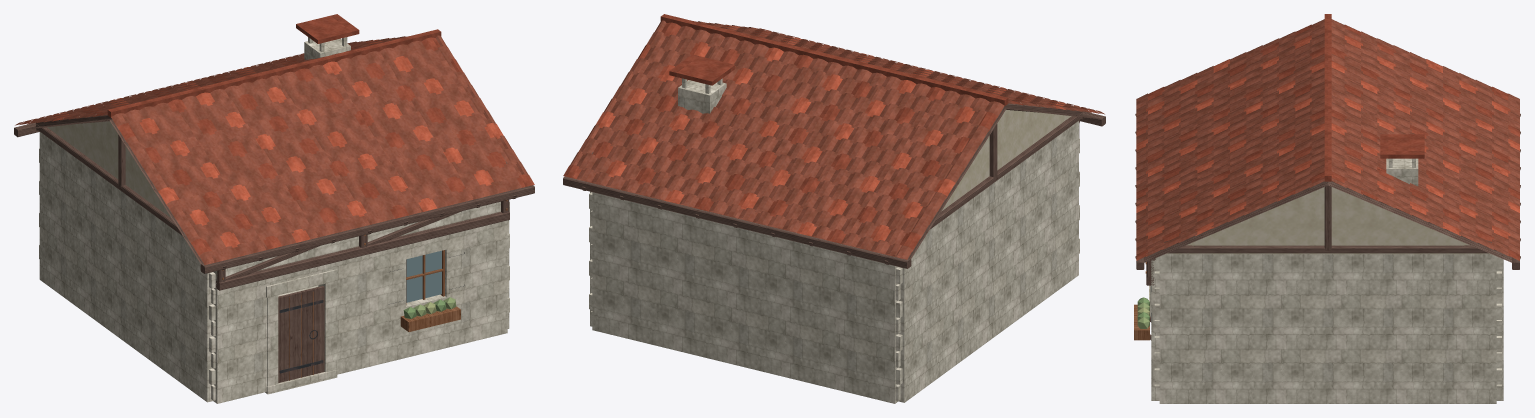
The model's file is B20_vivienda.glb.
The picture shows the model from 3 angles, left to right: view 1: azimuth 30°, elevation 25°; view 2: azimuth 150°, elevation 25°; view 3: azimuth 270°, elevation 25°; orthographic projection. The views are drawn at different scales.
Parts seen in each view (by area): view 1: AUR034_B20_clay_tiles, AUR034_B20_lower_masonry, AUR034_B20_entry_leaf0, AUR034_B20_gable-1, AUR034_B20_sill, AUR034_B20_fascia-1, AUR034_B20_ridge, AUR034_B20_window0_glazing, AUR034_B20_gable_tie-1, AUR034_B20_cowl, AUR034_B20_entry_pier1, AUR034_B20_entry_pier-1 (+8 smaller); view 2: AUR034_B20_lower_masonry, AUR034_B20_clay_tiles, AUR034_B20_gable-1, AUR034_B20_fascia1, AUR034_B20_ridge, AUR034_B20_gable_tie-1, AUR034_B20_dressed_corner_stones, AUR034_B20_cowl, AUR034_B20_chimney, AUR034_B20_roof_sheathing; view 3: AUR034_B20_clay_tiles, AUR034_B20_lower_masonry, AUR034_B20_gable1, AUR034_B20_gable_tie1, AUR034_B20_roof_sheathing, AUR034_B20_dressed_corner_stones, AUR034_B20_ridge, AUR034_B20_cowl, AUR034_B20_chimney, AUR034_B20_gable_kingpost1.
Boxes of the visible parts, left/top/right/bottom form: AUR034_B20_clay_tiles: left=15, top=35, right=534, bottom=264; AUR034_B20_lower_masonry: left=39, top=132, right=509, bottom=403; AUR034_B20_entry_leaf0: left=278, top=286, right=324, bottom=382; AUR034_B20_gable-1: left=47, top=114, right=171, bottom=218; AUR034_B20_sill: left=215, top=212, right=509, bottom=290; AUR034_B20_fascia-1: left=200, top=185, right=534, bottom=273; AUR034_B20_ridge: left=107, top=29, right=441, bottom=117; AUR034_B20_window0_glazing: left=406, top=250, right=441, bottom=302; AUR034_B20_gable_tie-1: left=36, top=124, right=182, bottom=235; AUR034_B20_cowl: left=296, top=14, right=359, bottom=43; AUR034_B20_entry_pier1: left=319, top=281, right=336, bottom=372; AUR034_B20_entry_pier-1: left=267, top=295, right=278, bottom=386; AUR034_B20_lower_masonry: left=590, top=121, right=1078, bottom=403; AUR034_B20_clay_tiles: left=563, top=20, right=1104, bottom=259; AUR034_B20_gable-1: left=942, top=102, right=1071, bottom=210; AUR034_B20_fascia1: left=563, top=176, right=911, bottom=268; AUR034_B20_ridge: left=660, top=14, right=1008, bottom=106; AUR034_B20_gable_tie-1: left=930, top=112, right=1082, bottom=229; AUR034_B20_dressed_corner_stones: left=589, top=138, right=1079, bottom=400; AUR034_B20_cowl: left=669, top=54, right=735, bottom=85; AUR034_B20_chimney: left=678, top=80, right=726, bottom=113; AUR034_B20_roof_sheathing: left=908, top=107, right=1100, bottom=258; AUR034_B20_clay_tiles: left=1136, top=19, right=1519, bottom=260; AUR034_B20_lower_masonry: left=1151, top=254, right=1503, bottom=403; AUR034_B20_gable1: left=1165, top=187, right=1490, bottom=254; AUR034_B20_gable_tie1: left=1160, top=245, right=1496, bottom=253; AUR034_B20_roof_sheathing: left=1144, top=181, right=1512, bottom=262; AUR034_B20_dressed_corner_stones: left=1154, top=271, right=1501, bottom=399; AUR034_B20_ridge: left=1324, top=14, right=1331, bottom=181; AUR034_B20_cowl: left=1380, top=134, right=1424, bottom=158; AUR034_B20_chimney: left=1386, top=158, right=1418, bottom=186; AUR034_B20_gable_kingpost1: left=1324, top=185, right=1331, bottom=250.
Size of the model in its own units: 7.96 by 5.42 by 8.03.
12 materials, 8 textured.
